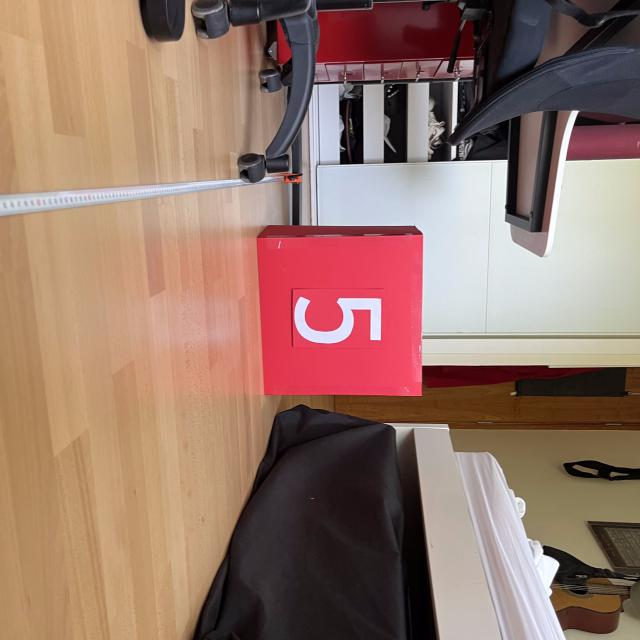box: (251, 220, 428, 398)
